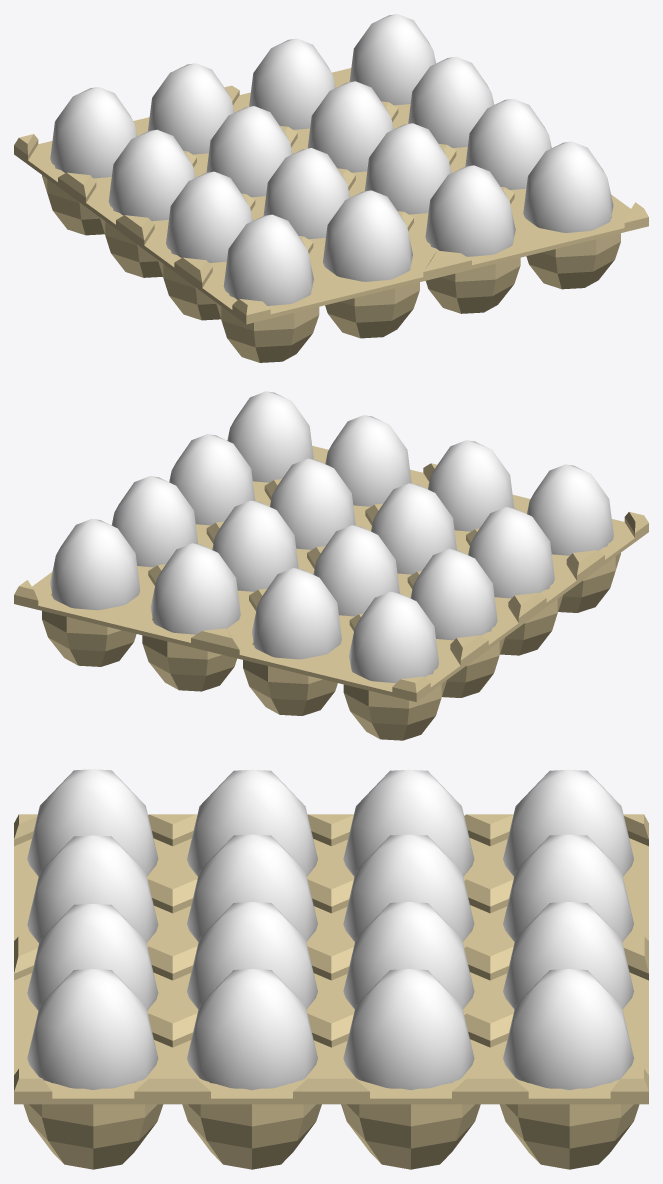
The model's file is eggs_and_carton.glb.
3 views of the same model, one above another, from view 1: azimuth 30°, elevation 25°; view 2: azimuth 150°, elevation 25°; view 3: azimuth 270°, elevation 25° (orthographic). The views are drawn at different scales.
Parts seen in each view (by area): view 1: Cube.052; view 2: Cube.052; view 3: Cube.052.
Part boxes in pixels (x1=…): Cube.052: x1=14, y1=14, x2=648, y2=362; Cube.052: x1=14, y1=391, x2=648, y2=740; Cube.052: x1=14, y1=769, x2=648, y2=1169.
Size of the model in its own units: 0.5361 by 0.1721 by 0.536.
Materials: 1 (1 with a texture image).
